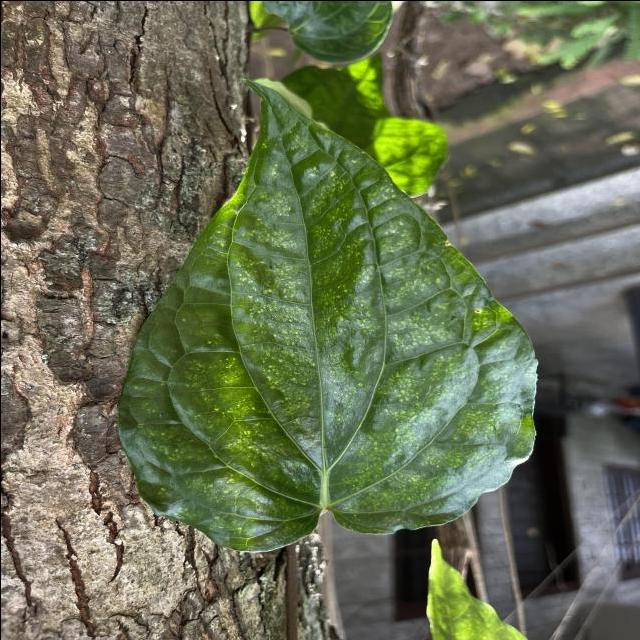Piper betle: (112, 74, 546, 554)
